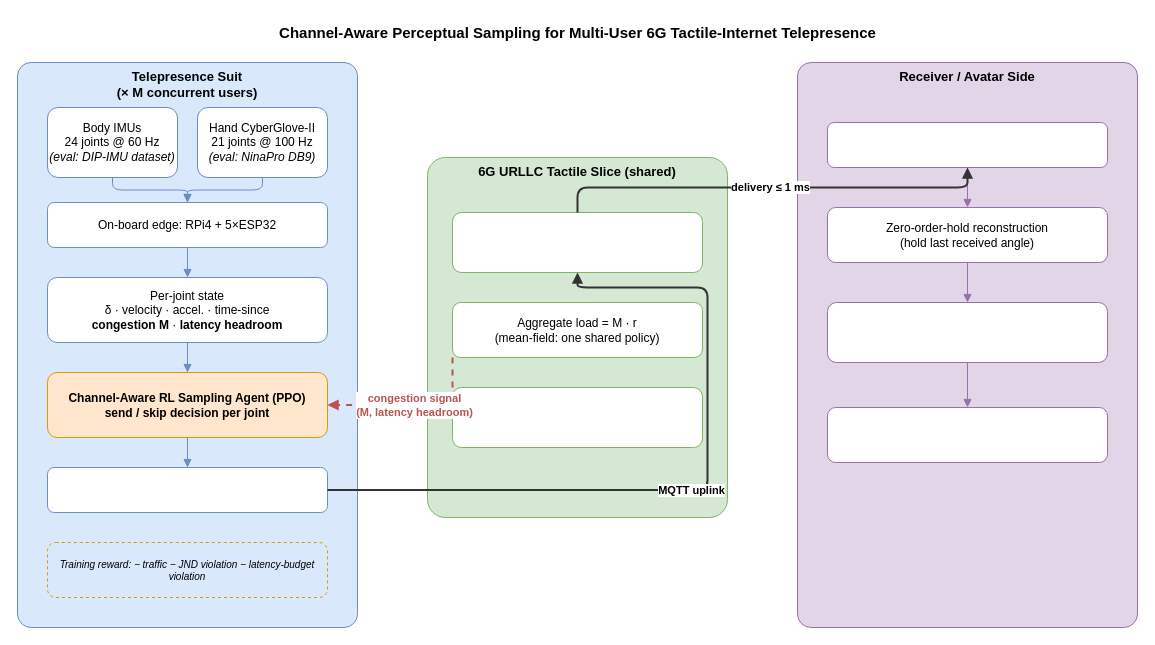
This 1155x645 diagram has some shape labels left out. The shapes that lost their labels are listed below. From the top down, each one's centre as x and y in pixels, then its label:
At [967,145]: "MQTT Broker".
At [577,242]: "Shared M/D/1 queue C = 8000 msg/s (12.8 Mbit/s)".
At [967,332]: "Avatar / Digital Twin 24 + 21 reconstructed joints".
At [577,417]: "E2E latency budget ≤ 1 ms ⟹ feasibility M* = ρ*C / r".
At [967,434]: "Dashboard / QoE monitor RMSE vs JND · latency".
At [187,489]: "MQTT publish — only the joints sent".
